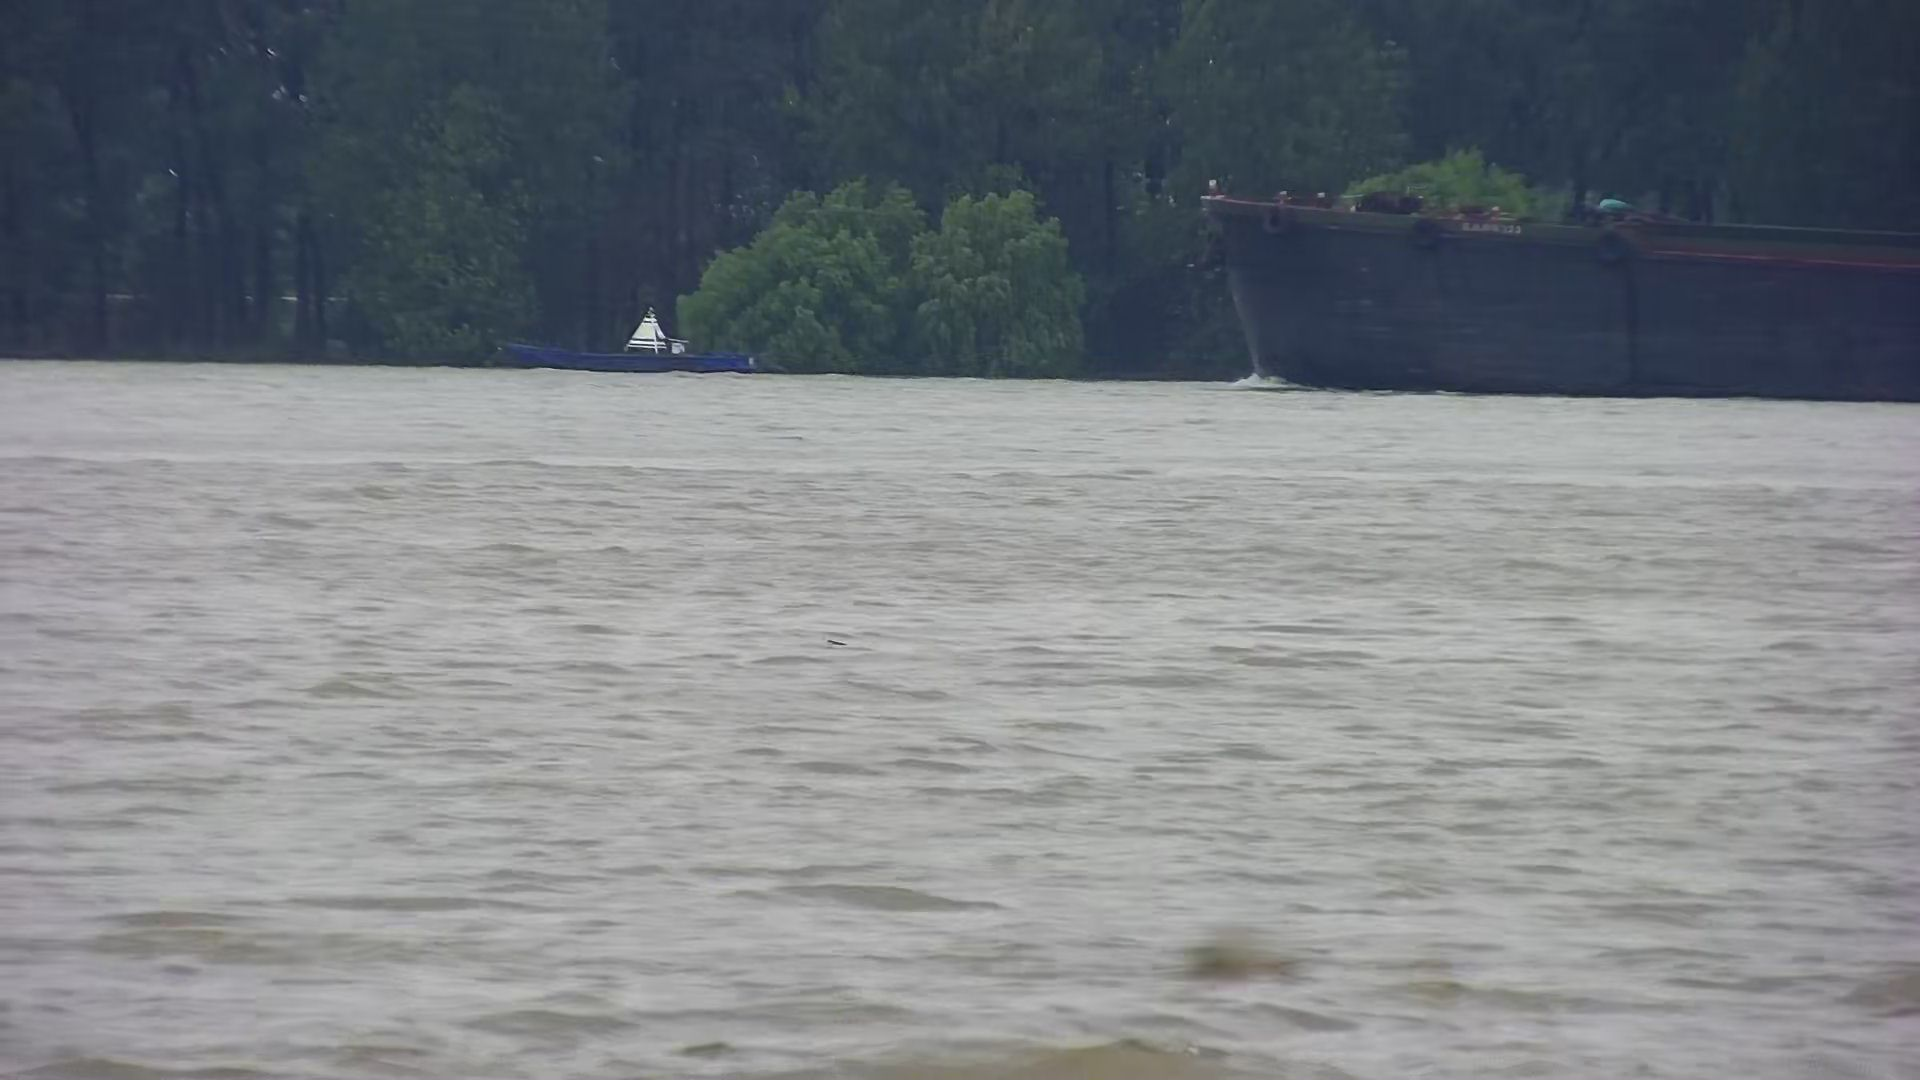boat: (477, 290, 760, 382)
ship: (1158, 152, 1920, 417)
